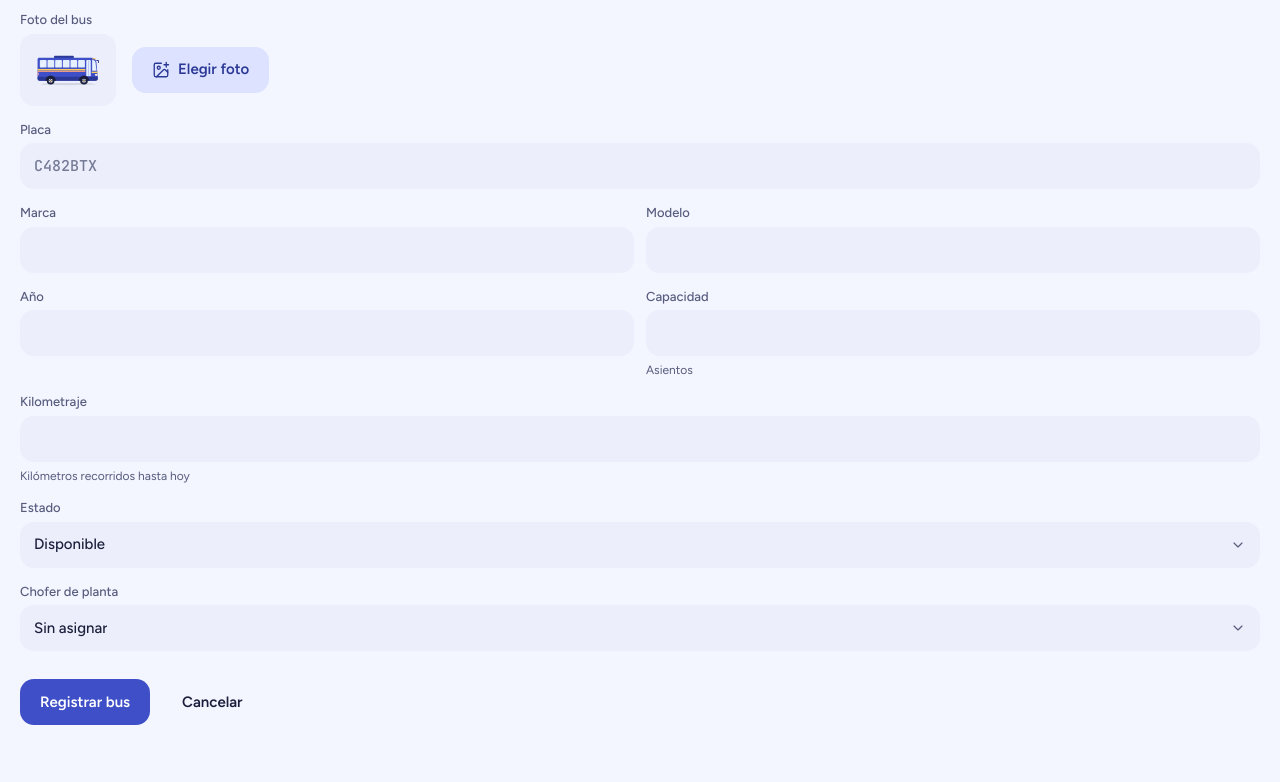
says what is missing and sends nothing
Click the button "Registrar bus": (85, 702) top-left (20, 679), bottom-right (150, 725)
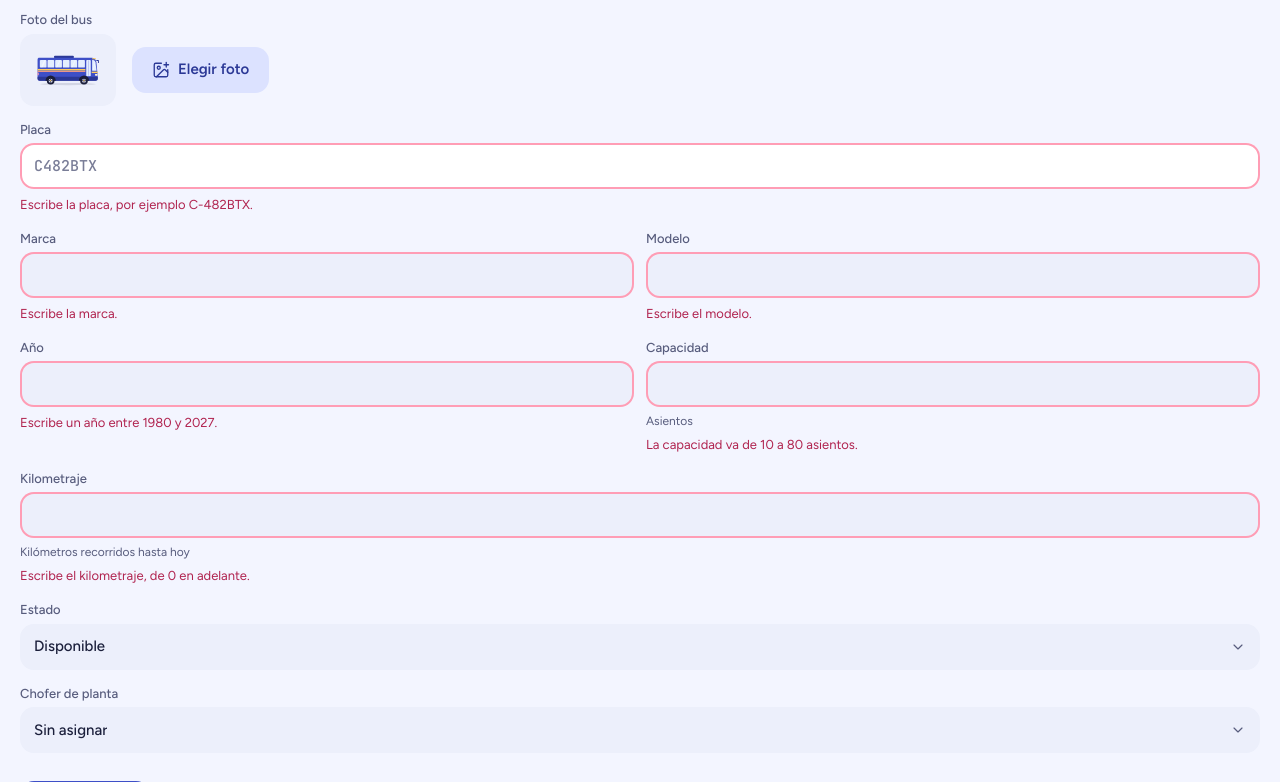
Result: the text "Escribe la placa, por ejemplo C-482BTX." is shown at top-left (20, 197), bottom-right (253, 212)
Result: the text "Escribe la marca." is shown at top-left (20, 306), bottom-right (117, 321)
Result: the text "Escribe el modelo." is shown at top-left (646, 306), bottom-right (752, 321)
